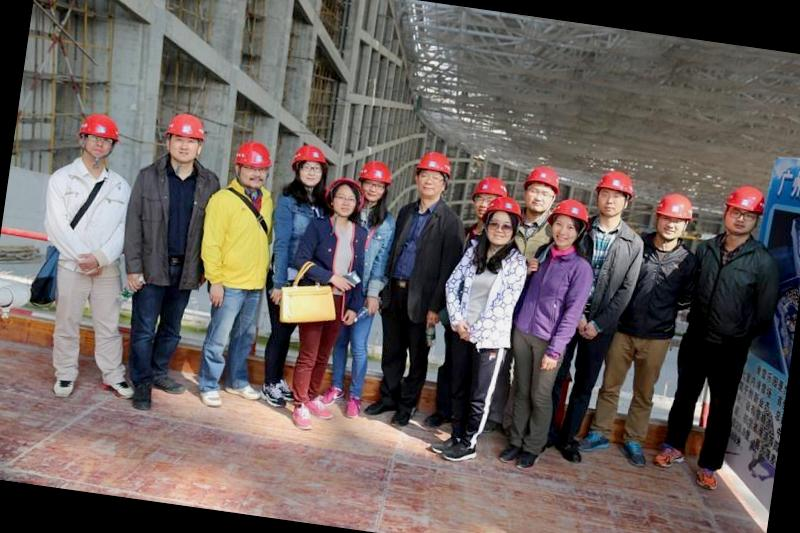helmet: (722, 180, 772, 218), (229, 134, 276, 173), (591, 167, 646, 200), (548, 196, 598, 231), (162, 108, 208, 146), (521, 158, 572, 192), (74, 110, 121, 142), (652, 194, 700, 223), (414, 142, 458, 173), (472, 176, 516, 205), (364, 154, 400, 184), (292, 140, 332, 166), (484, 192, 522, 216)
person: (100, 101, 232, 412), (661, 174, 787, 490), (20, 107, 150, 407), (362, 143, 469, 442), (182, 134, 298, 404), (596, 191, 705, 469), (558, 161, 653, 468), (426, 184, 528, 464), (244, 131, 339, 422), (500, 192, 600, 464), (271, 174, 382, 416), (328, 160, 407, 418)
